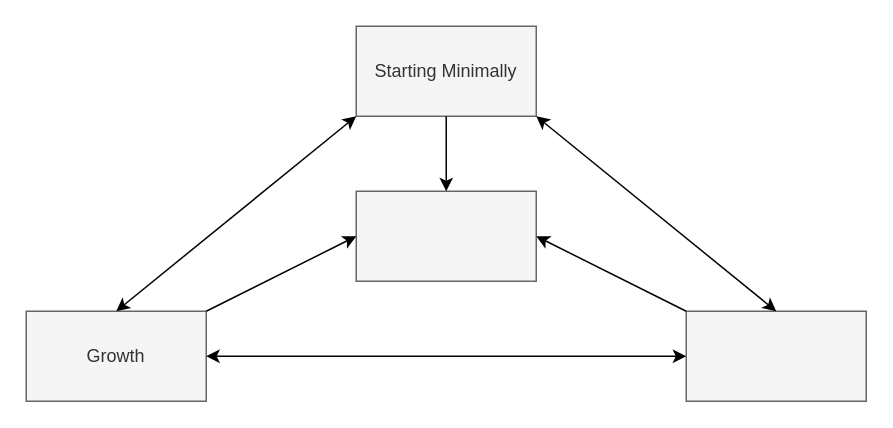
The diagram is 893 pixels wide and 428 high, and some of its shapes have lost their labels. Each missing label, with the centre of its shape:
Historical Marking: (445,235)
Speciation: (775,355)
